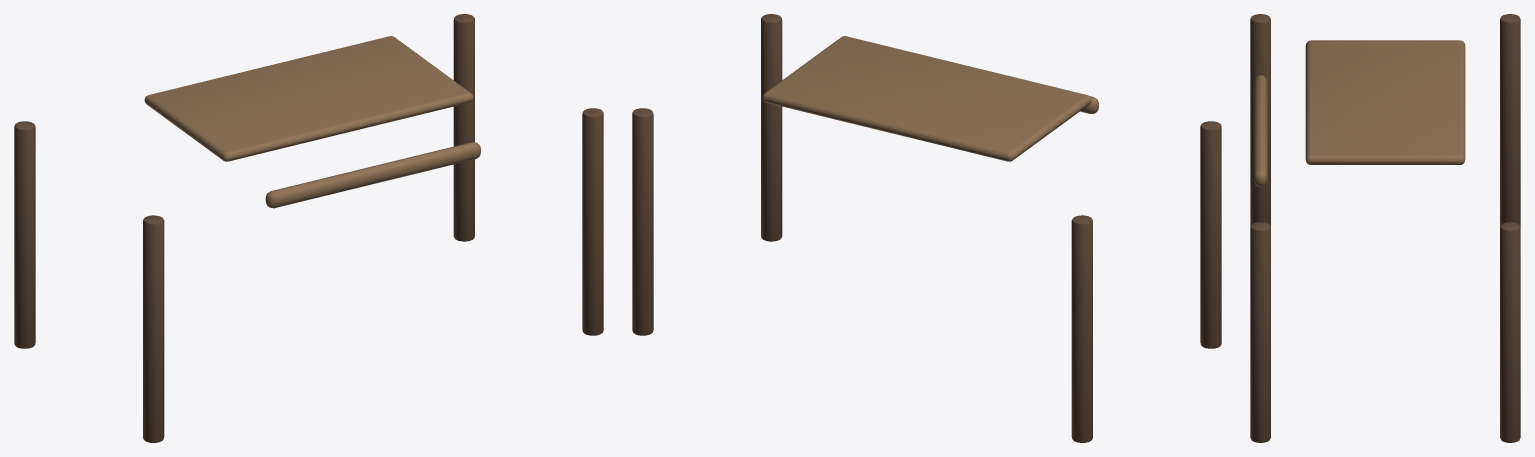
Rendered from dining_table.glb.
3 views of the same model, side by side, from view 1: azimuth 30°, elevation 25°; view 2: azimuth 150°, elevation 25°; view 3: azimuth 270°, elevation 25° (orthographic). The views are drawn at different scales.
Parts seen in each view (by area): view 1: top, leg.001, leg.002, leg, leg.003, apron; view 2: top, leg, leg.003, leg.001, leg.002; view 3: top, leg.002, leg.003, leg.001, leg, apron.
Boxes of the visible parts, x1,y1,x2,y2 form: top: [144, 36, 473, 161]; leg.001: [14, 121, 35, 348]; leg.002: [582, 108, 603, 335]; leg: [143, 215, 164, 442]; leg.003: [453, 14, 474, 241]; apron: [265, 142, 480, 208]; top: [762, 36, 1091, 161]; leg: [1200, 121, 1221, 348]; leg.003: [632, 108, 653, 335]; leg.001: [1071, 215, 1092, 442]; leg.002: [761, 14, 782, 241]; top: [1305, 40, 1465, 164]; leg.002: [1250, 222, 1270, 442]; leg.003: [1500, 222, 1520, 442]; leg.001: [1500, 14, 1520, 226]; leg: [1250, 14, 1270, 226]; apron: [1253, 75, 1267, 186].
Bounding box in the file's own units: 1.48 × 0.755 × 0.78.
